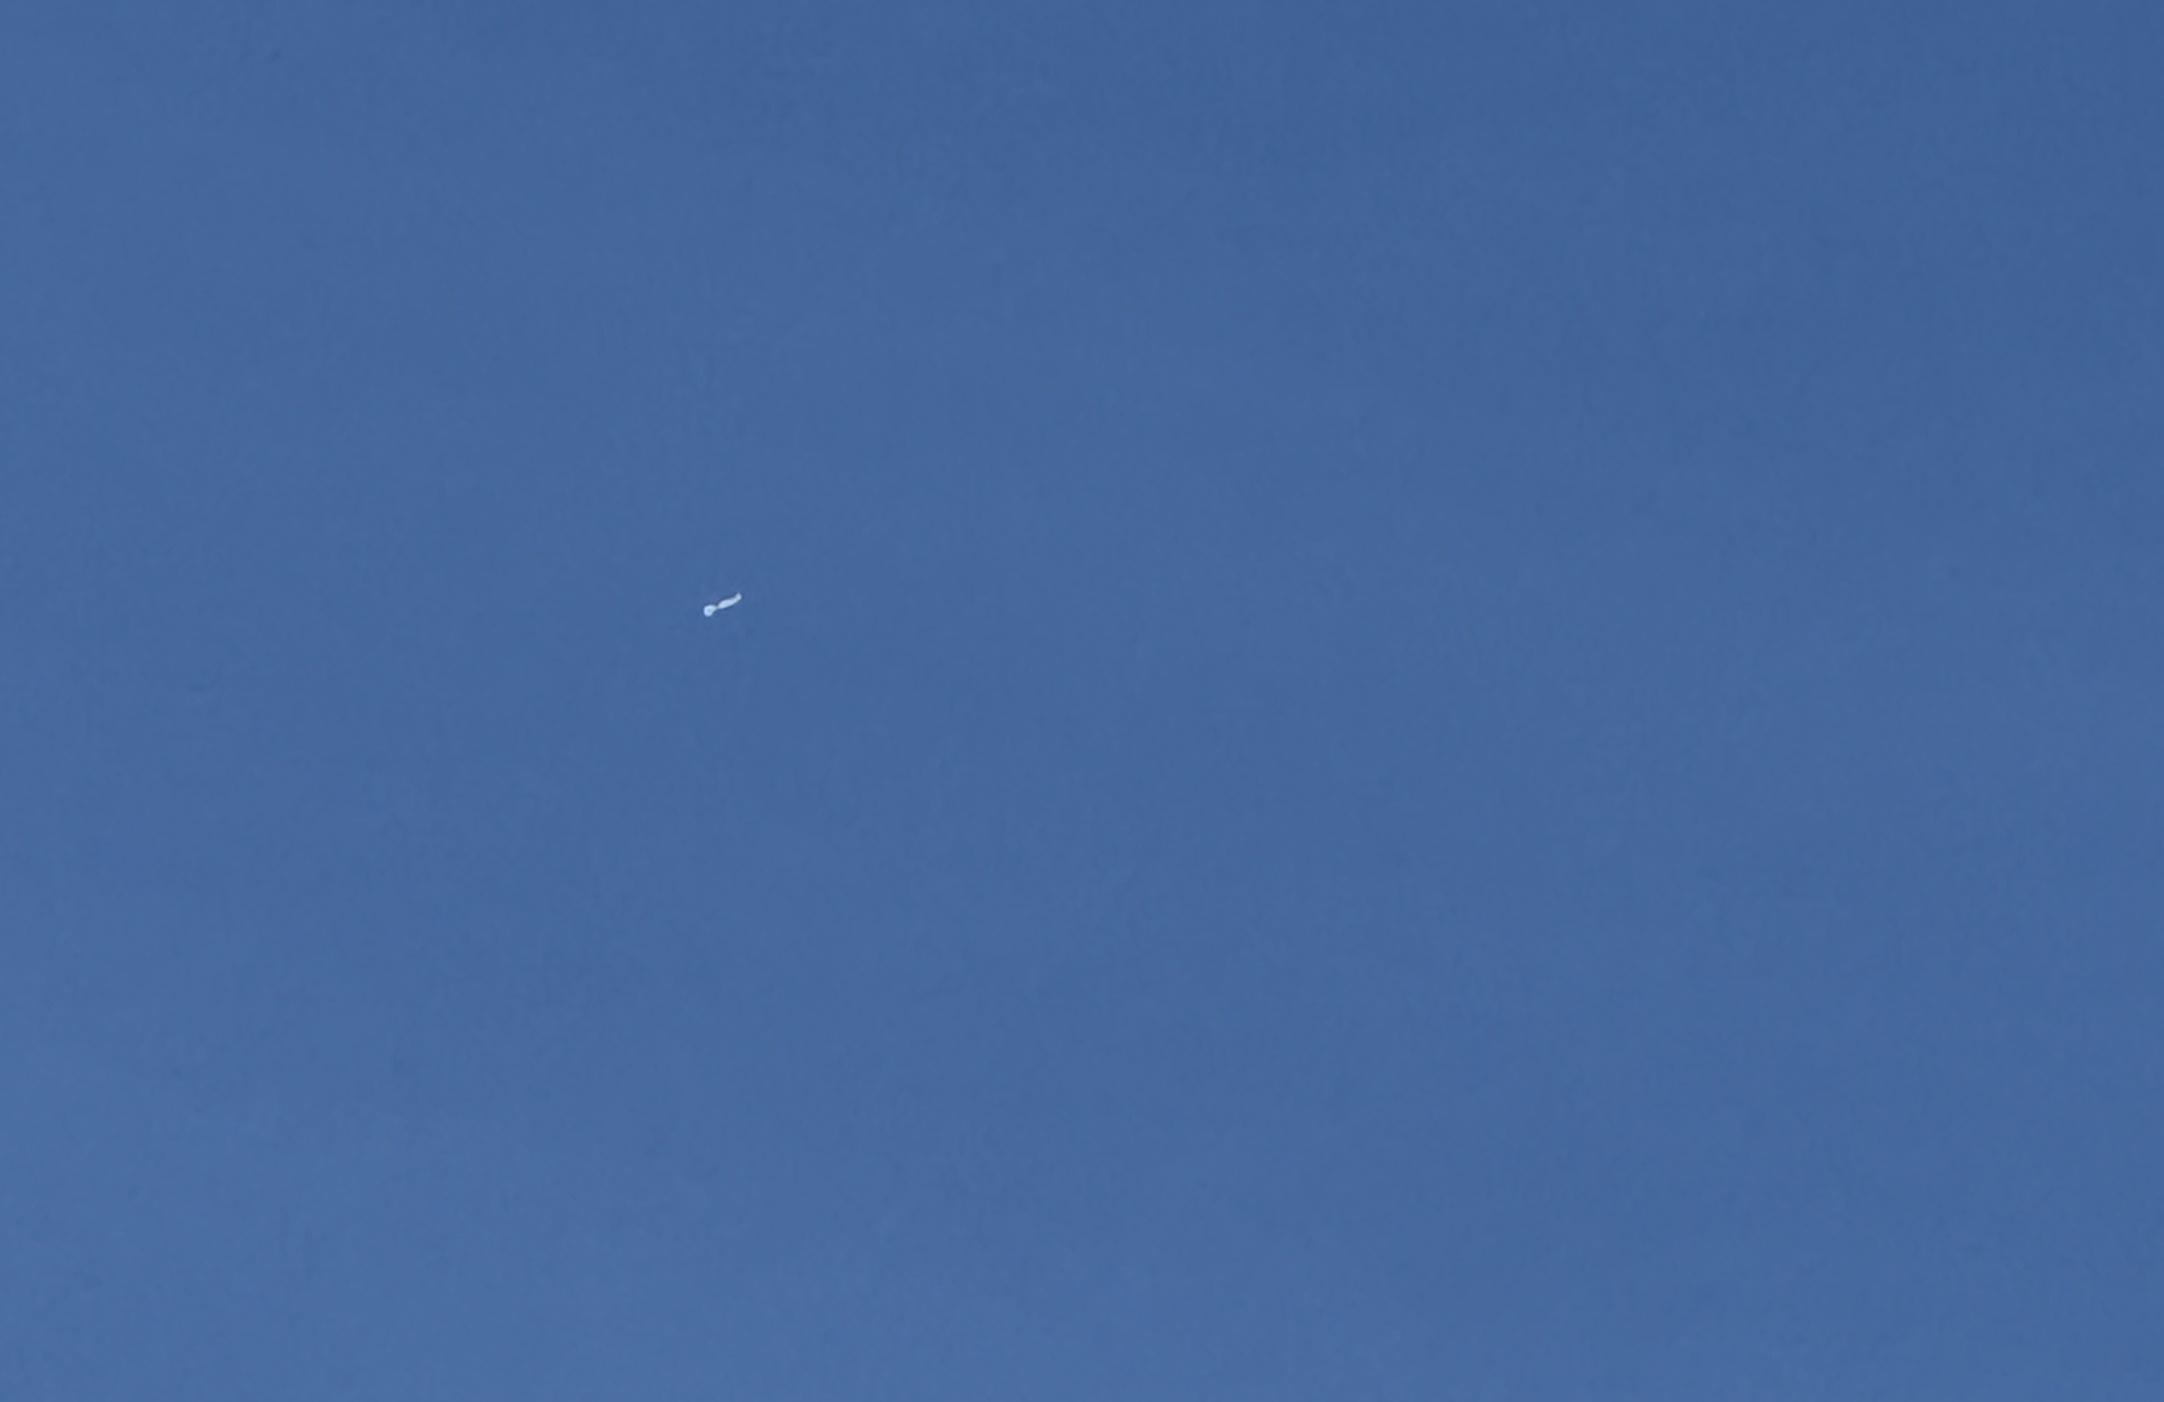Plane: (666, 582, 787, 632)
